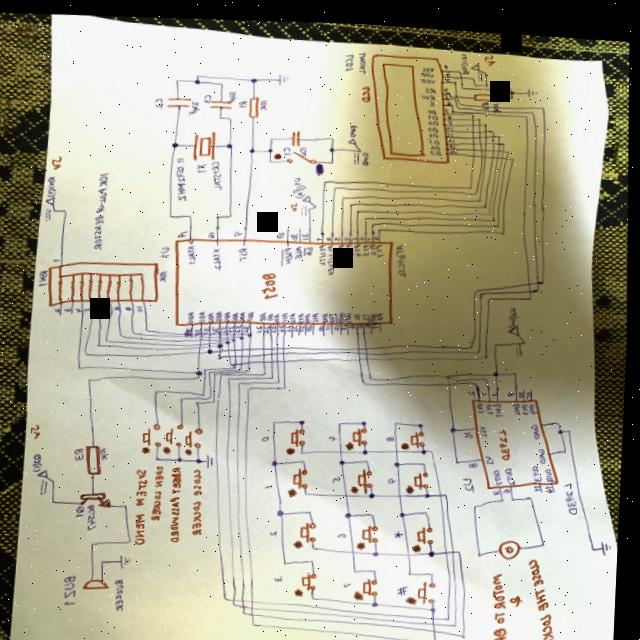capacitor: (167, 92, 193, 105), (209, 94, 234, 106), (290, 123, 303, 142)
crossover: (254, 600, 261, 605), (253, 607, 261, 611), (401, 486, 407, 491), (410, 545, 416, 550), (354, 544, 360, 548), (244, 594, 250, 598), (235, 593, 241, 597), (254, 594, 260, 598), (435, 609, 441, 613), (448, 368, 454, 372), (341, 443, 347, 447), (347, 487, 353, 491), (441, 485, 446, 489), (229, 349, 234, 353), (228, 343, 233, 347), (242, 342, 247, 346), (264, 341, 268, 346), (272, 341, 277, 345), (264, 355, 269, 359), (264, 347, 268, 352), (284, 345, 288, 350), (528, 273, 533, 277), (537, 271, 541, 276), (491, 140, 496, 144), (398, 443, 402, 447), (448, 543, 452, 547), (455, 542, 459, 546), (235, 343, 239, 347), (242, 349, 246, 353), (236, 349, 240, 353), (242, 357, 246, 361), (249, 356, 253, 360), (249, 349, 253, 353), (250, 342, 254, 346), (272, 346, 276, 350), (272, 354, 276, 358), (278, 346, 282, 350), (277, 341, 281, 345), (283, 341, 287, 345), (285, 354, 289, 358), (278, 354, 282, 358), (459, 68, 463, 72), (530, 281, 534, 285), (471, 115, 475, 119), (471, 122, 475, 126), (491, 126, 495, 130), (492, 133, 496, 137), (501, 141, 505, 145), (484, 140, 488, 144), (480, 140, 484, 144), (450, 375, 454, 379), (437, 622, 442, 625), (436, 615, 441, 618), (220, 345, 224, 348), (236, 358, 240, 361), (200, 347, 204, 350), (209, 341, 215, 343), (235, 328, 239, 331), (227, 328, 231, 331), (471, 110, 475, 113), (471, 128, 475, 131), (472, 134, 476, 137), (472, 140, 476, 143), (472, 146, 476, 149), (479, 134, 483, 137), (478, 127, 482, 130), (478, 122, 482, 125), (477, 115, 481, 118), (484, 122, 488, 125), (484, 127, 488, 130), (484, 134, 488, 137), (491, 147, 495, 150), (497, 141, 501, 144), (497, 134, 501, 137), (496, 148, 500, 151), (500, 148, 504, 151), (505, 148, 509, 151), (481, 146, 484, 150), (484, 146, 487, 150), (200, 339, 205, 341), (210, 338, 215, 340), (359, 341, 363, 343), (366, 341, 370, 343), (367, 346, 371, 348), (360, 345, 364, 347), (360, 351, 364, 353), (368, 351, 372, 353), (200, 342, 204, 344), (202, 334, 206, 336), (202, 332, 206, 334), (210, 332, 214, 334), (210, 334, 214, 336), (220, 331, 224, 333), (243, 328, 247, 330), (234, 331, 238, 333), (228, 332, 232, 334), (228, 334, 232, 336), (221, 334, 225, 336), (220, 329, 224, 331), (221, 336, 225, 338), (210, 329, 214, 331), (202, 329, 206, 331), (192, 329, 196, 331), (193, 332, 197, 334)
ground: (123, 550, 136, 566), (604, 531, 616, 546), (277, 68, 290, 81), (209, 449, 218, 465), (527, 79, 538, 89)
junction: (248, 141, 258, 150), (249, 72, 258, 79), (402, 504, 411, 511), (226, 138, 235, 145), (285, 554, 293, 561), (328, 140, 336, 147), (376, 594, 384, 601), (274, 455, 283, 461), (348, 506, 356, 512), (341, 453, 349, 459), (280, 505, 288, 511), (372, 505, 380, 511), (453, 419, 461, 425), (479, 543, 487, 549), (427, 485, 435, 491), (266, 143, 275, 148), (543, 532, 550, 538), (329, 130, 336, 136), (310, 503, 317, 509), (420, 415, 427, 421), (313, 552, 319, 558), (433, 543, 439, 549), (104, 556, 110, 562), (377, 544, 383, 550), (357, 561, 363, 567), (427, 502, 433, 508), (365, 442, 371, 448), (495, 363, 502, 368), (302, 414, 309, 419), (397, 454, 404, 459), (372, 486, 379, 491), (194, 75, 201, 80), (174, 74, 181, 79), (432, 564, 439, 569), (508, 82, 515, 87), (465, 626, 472, 631), (199, 454, 206, 459), (172, 139, 179, 144), (216, 210, 222, 215), (169, 210, 175, 215), (94, 539, 100, 544), (156, 385, 162, 390), (515, 362, 521, 367), (364, 414, 370, 419), (209, 345, 215, 350), (315, 590, 321, 595), (435, 600, 441, 605), (484, 347, 490, 352), (424, 442, 430, 447), (227, 591, 233, 596), (228, 209, 234, 214), (457, 452, 464, 456), (476, 496, 483, 500), (491, 210, 498, 214), (180, 454, 187, 458), (198, 366, 205, 370), (475, 280, 480, 285), (531, 487, 537, 491), (127, 501, 133, 505), (540, 97, 546, 101), (274, 415, 280, 419), (54, 497, 60, 501), (560, 420, 566, 424), (396, 414, 402, 418), (411, 564, 417, 568), (365, 210, 371, 214), (371, 216, 377, 220), (477, 109, 483, 113), (364, 375, 370, 379), (438, 635, 444, 639), (219, 351, 225, 355), (158, 453, 164, 457), (220, 339, 226, 343), (330, 155, 336, 159), (447, 367, 454, 370), (64, 207, 69, 211), (502, 223, 507, 227), (340, 416, 345, 420), (566, 440, 571, 444), (189, 210, 194, 214), (285, 380, 290, 384), (513, 489, 518, 493), (569, 420, 574, 424), (502, 133, 506, 138), (349, 196, 354, 200), (357, 203, 362, 207), (378, 221, 383, 225), (479, 190, 483, 195), (483, 196, 488, 200), (496, 216, 501, 220), (510, 87, 514, 92), (480, 284, 485, 288), (488, 289, 493, 293), (537, 279, 542, 283), (471, 337, 476, 341), (478, 342, 483, 346), (303, 445, 308, 449), (256, 618, 261, 622), (450, 609, 455, 613), (558, 411, 563, 415), (215, 368, 220, 372), (99, 340, 104, 344), (107, 336, 112, 340), (121, 330, 126, 334), (133, 327, 138, 331), (146, 324, 151, 328), (250, 328, 255, 332), (228, 336, 233, 340), (269, 132, 274, 136), (314, 198, 318, 203), (425, 455, 429, 459), (461, 542, 465, 546), (368, 453, 372, 457), (447, 485, 451, 489), (250, 364, 254, 368), (543, 271, 547, 275), (324, 174, 328, 178), (334, 180, 338, 184), (342, 189, 346, 193), (470, 178, 474, 182), (473, 184, 477, 188), (488, 204, 492, 208), (512, 149, 516, 153), (507, 141, 511, 145), (485, 75, 489, 79), (456, 99, 460, 103), (530, 287, 534, 291), (476, 373, 480, 377), (305, 454, 309, 458), (377, 562, 381, 566), (315, 540, 319, 544), (247, 606, 251, 610), (458, 615, 462, 619), (504, 490, 508, 494), (273, 370, 277, 374), (230, 372, 234, 376), (132, 536, 136, 540), (80, 363, 84, 367), (55, 477, 59, 481), (595, 538, 599, 542), (525, 332, 529, 336), (234, 333, 238, 337), (269, 154, 273, 158), (460, 79, 465, 82), (432, 442, 437, 445), (236, 598, 241, 601), (222, 369, 227, 372), (90, 375, 94, 378), (496, 335, 500, 338), (265, 367, 269, 370), (498, 127, 502, 130), (491, 121, 495, 124), (484, 115, 488, 118), (471, 105, 475, 108), (530, 102, 534, 105), (524, 106, 528, 109), (509, 78, 513, 81), (474, 76, 478, 79), (471, 69, 475, 72), (451, 102, 455, 105), (484, 63, 488, 66), (487, 369, 491, 372), (371, 370, 375, 373), (308, 487, 312, 490), (279, 375, 283, 378), (242, 363, 246, 366), (183, 393, 187, 396), (210, 392, 214, 395), (204, 389, 208, 392), (215, 395, 219, 398), (240, 377, 244, 380), (87, 350, 91, 353), (458, 63, 462, 66), (242, 331, 246, 334), (359, 143, 363, 146), (453, 73, 457, 76), (309, 202, 313, 205), (54, 207, 58, 210), (196, 70, 200, 73), (220, 78, 224, 81), (455, 87, 458, 90), (231, 359, 235, 361), (458, 95, 462, 97), (235, 362, 239, 364), (198, 398, 202, 400), (206, 364, 210, 366), (210, 367, 214, 369), (199, 372, 203, 374), (249, 382, 253, 384), (219, 112, 223, 114), (228, 113, 232, 115), (447, 85, 451, 87), (454, 88, 458, 90), (449, 88, 452, 90), (454, 90, 457, 92), (451, 96, 454, 98)
resistor: (88, 441, 106, 473), (473, 84, 503, 94), (248, 91, 261, 114)
switch: (144, 418, 166, 444), (421, 572, 441, 598), (168, 419, 188, 445), (359, 461, 377, 489), (187, 423, 208, 445), (286, 145, 318, 159), (303, 515, 322, 538), (295, 461, 313, 484), (305, 565, 323, 586), (420, 518, 439, 537), (354, 420, 372, 440), (416, 463, 434, 483), (365, 517, 383, 537), (366, 570, 384, 590), (293, 421, 310, 442), (412, 423, 429, 441)
terminal: (509, 316, 521, 327), (46, 193, 57, 204), (40, 467, 52, 476), (470, 55, 480, 63), (302, 189, 312, 197), (348, 131, 358, 138)
text: (529, 549, 565, 640), (494, 563, 518, 640), (92, 169, 114, 249), (135, 465, 155, 542), (170, 462, 189, 539), (193, 464, 209, 531), (152, 461, 170, 517), (175, 153, 189, 198), (566, 472, 583, 506), (65, 571, 83, 603), (263, 265, 282, 295), (500, 421, 515, 452), (117, 575, 131, 608), (396, 238, 409, 270), (292, 171, 308, 193), (89, 501, 102, 528), (212, 157, 224, 186), (354, 45, 368, 68), (508, 298, 522, 321), (328, 239, 338, 269), (281, 241, 295, 262), (464, 468, 480, 485), (342, 47, 356, 66), (358, 78, 372, 97), (213, 243, 224, 267), (47, 173, 59, 195), (507, 459, 520, 478), (459, 45, 470, 67), (187, 240, 199, 260), (34, 452, 47, 470), (39, 267, 51, 286), (534, 456, 546, 473), (320, 238, 329, 260), (238, 242, 251, 257), (514, 586, 528, 599), (496, 460, 507, 476), (483, 46, 496, 59), (33, 423, 45, 437), (52, 154, 64, 168), (496, 394, 507, 409), (533, 415, 544, 430), (548, 459, 559, 473), (189, 97, 200, 111), (540, 439, 550, 454), (227, 86, 237, 100), (376, 237, 386, 251), (401, 578, 413, 589), (79, 502, 89, 515), (349, 118, 359, 131), (78, 445, 88, 458), (362, 145, 371, 159), (531, 394, 541, 406), (155, 94, 165, 106), (488, 394, 497, 407), (515, 394, 524, 407), (523, 394, 532, 407), (346, 237, 355, 250), (355, 237, 364, 250), (419, 70, 435, 77), (296, 240, 304, 254), (161, 243, 172, 253), (197, 159, 208, 169), (298, 141, 309, 151), (305, 240, 315, 251), (186, 322, 196, 333), (338, 238, 347, 250), (420, 64, 435, 71), (161, 266, 169, 279), (201, 306, 209, 319), (334, 469, 345, 478), (479, 394, 488, 405), (482, 418, 491, 429), (492, 94, 501, 105), (238, 95, 249, 104), (337, 306, 346, 317), (103, 445, 111, 457), (260, 94, 268, 106), (363, 238, 371, 250), (189, 307, 197, 319), (209, 308, 217, 320), (225, 306, 233, 318), (313, 305, 321, 317), (346, 305, 354, 317), (488, 447, 498, 456), (248, 306, 257, 316), (466, 423, 477, 431), (178, 226, 189, 234), (283, 142, 294, 150), (233, 307, 241, 318), (261, 306, 269, 317), (275, 307, 283, 318), (422, 87, 436, 93), (427, 131, 441, 137), (371, 237, 378, 249), (470, 381, 479, 390), (291, 197, 300, 206), (377, 306, 386, 315), (398, 523, 408, 531), (481, 93, 489, 103), (217, 306, 225, 316), (240, 307, 248, 317), (290, 307, 298, 317), (306, 307, 314, 317), (422, 59, 435, 65), (471, 453, 482, 460), (428, 107, 439, 114), (428, 119, 439, 126), (430, 136, 441, 143), (283, 306, 290, 317), (273, 524, 282, 532), (548, 476, 557, 484), (424, 80, 436, 86), (214, 321, 222, 330), (204, 322, 213, 330), (278, 570, 288, 577), (391, 470, 401, 477), (347, 575, 357, 582), (300, 307, 307, 317), (341, 526, 352, 532), (331, 306, 337, 317), (536, 475, 544, 483), (292, 227, 300, 235), (303, 226, 311, 234), (369, 307, 377, 315), (229, 320, 237, 328), (204, 90, 212, 98), (264, 430, 273, 437), (278, 226, 287, 233), (308, 318, 315, 327), (294, 318, 301, 327), (245, 319, 252, 328), (237, 319, 244, 328), (197, 323, 204, 332), (235, 226, 245, 232), (509, 382, 519, 388), (428, 102, 438, 108), (429, 125, 439, 131), (430, 143, 442, 148), (324, 307, 330, 317), (332, 429, 340, 436), (209, 227, 217, 234), (269, 308, 276, 316), (351, 316, 359, 323), (258, 319, 265, 327), (222, 321, 229, 329), (137, 302, 145, 309), (388, 429, 397, 435), (266, 320, 272, 329), (267, 478, 277, 483), (359, 316, 366, 323), (529, 382, 535, 390), (427, 114, 439, 118), (374, 316, 382, 322), (343, 317, 351, 323), (287, 319, 293, 327), (281, 319, 287, 327), (273, 319, 279, 327), (520, 382, 526, 389), (497, 480, 503, 487), (352, 230, 359, 236), (86, 304, 93, 310), (356, 307, 363, 313), (336, 318, 343, 324), (302, 319, 308, 326), (54, 256, 62, 261), (506, 480, 514, 485), (126, 303, 135, 307), (336, 229, 342, 235), (364, 307, 370, 313), (367, 316, 373, 322), (320, 319, 326, 325), (445, 92, 452, 97), (327, 319, 334, 324), (95, 305, 103, 309), (77, 306, 85, 310), (66, 305, 74, 309), (446, 118, 454, 122), (447, 131, 455, 135), (450, 142, 458, 146), (345, 230, 351, 235), (57, 305, 63, 310), (429, 94, 435, 99), (445, 70, 451, 75), (448, 124, 454, 129), (116, 303, 123, 307), (494, 384, 501, 388), (484, 383, 491, 387), (106, 304, 113, 308), (444, 56, 448, 63), (443, 87, 450, 91), (449, 137, 456, 141), (328, 231, 333, 236), (445, 101, 450, 106), (447, 112, 452, 117), (360, 230, 366, 234), (368, 230, 374, 234), (374, 229, 380, 233), (445, 65, 451, 69), (444, 79, 448, 85), (317, 231, 324, 234), (447, 107, 452, 111)
transistor: (83, 487, 116, 506)
